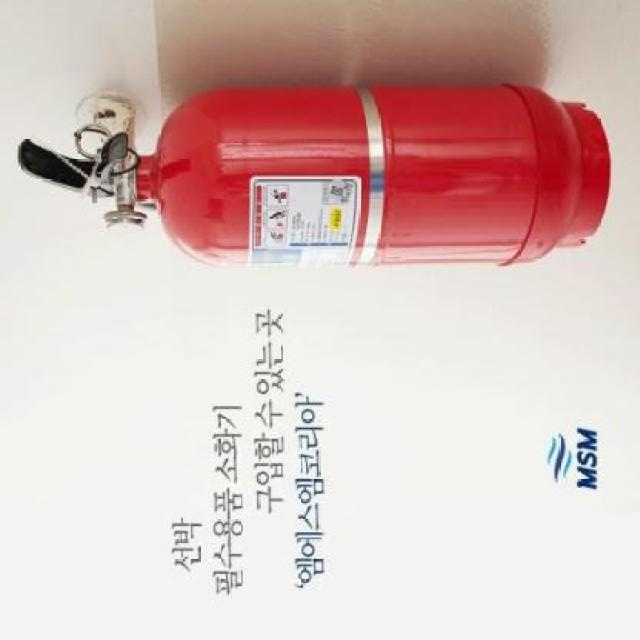fire extinguisher: (16, 85, 612, 267)
